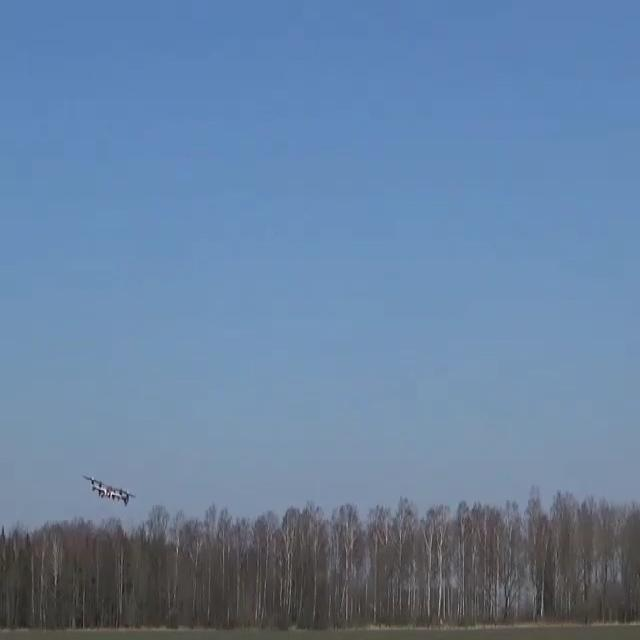drone: (82, 474, 135, 505)
